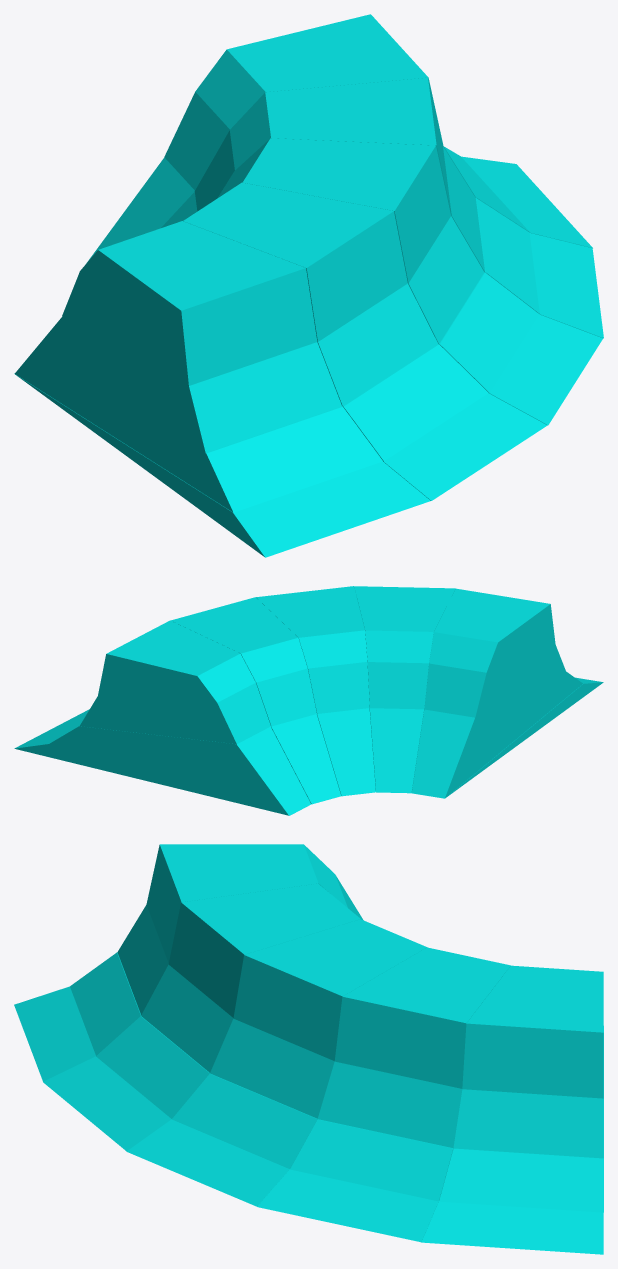
Rendered from SM_Env_Ramp_Curve_L_02_Collision.fbx.
3 views of the same model, one above another, from view 1: azimuth 30°, elevation 25°; view 2: azimuth 150°, elevation 25°; view 3: azimuth 270°, elevation 25° (orthographic). The views are drawn at different scales.
Visible parts, largest first — view 1: SM_Env_Ramp_Curve_L_02_Collision; view 2: SM_Env_Ramp_Curve_L_02_Collision; view 3: SM_Env_Ramp_Curve_L_02_Collision.
Boxes of the visible parts, left/top/right/bottom form: SM_Env_Ramp_Curve_L_02_Collision: left=14, top=14, right=603, bottom=557; SM_Env_Ramp_Curve_L_02_Collision: left=14, top=586, right=603, bottom=815; SM_Env_Ramp_Curve_L_02_Collision: left=14, top=844, right=603, bottom=1254.
Size of the model in its own units: 501 by 150 by 500.
